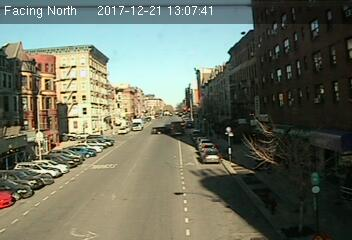car: (203, 149, 222, 164)
ups: (170, 120, 184, 136)
